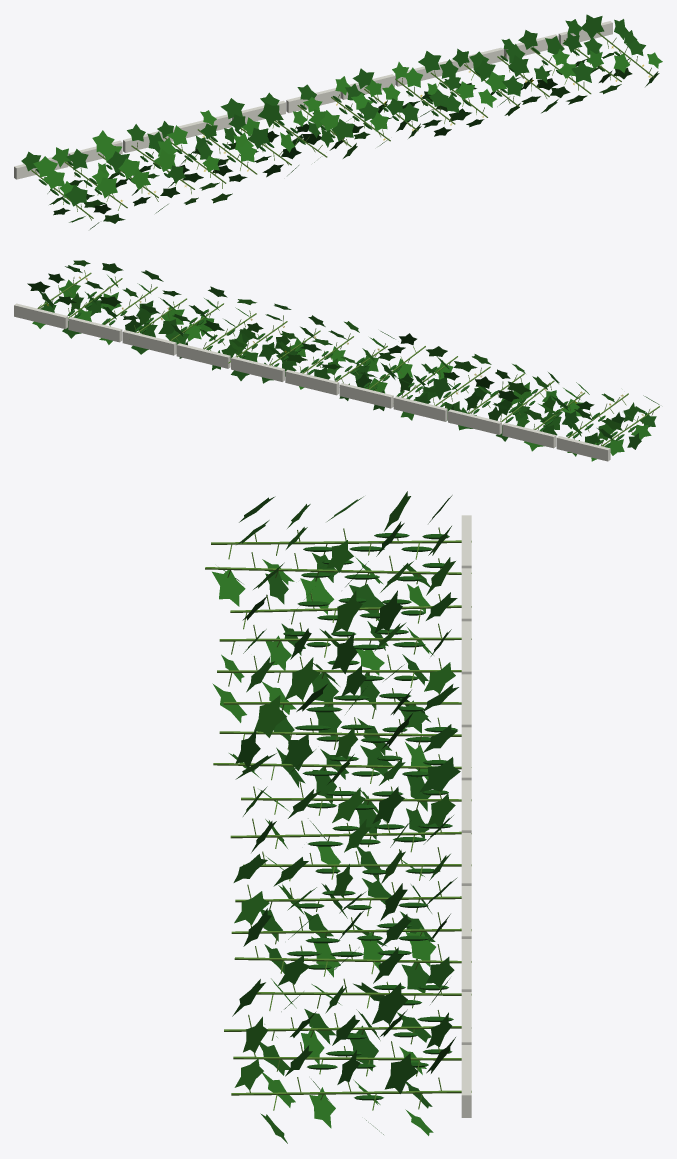
Rendered from row5.obj.
The picture shows the model from 3 angles, top to bottom: view 1: azimuth 30°, elevation 25°; view 2: azimuth 150°, elevation 25°; view 3: azimuth 270°, elevation 25°; orthographic projection. The views are drawn at different scales.
Parts seen in each view (by area): view 1: row5; view 2: row5; view 3: row5.
Part boxes in pixels (x1,y1,x2,y2): row5: (14,14,662,229); row5: (14,260,659,461); row5: (205,491,471,1143).
Size of the model in its own units: 11 by 0.9017 by 2.13.
